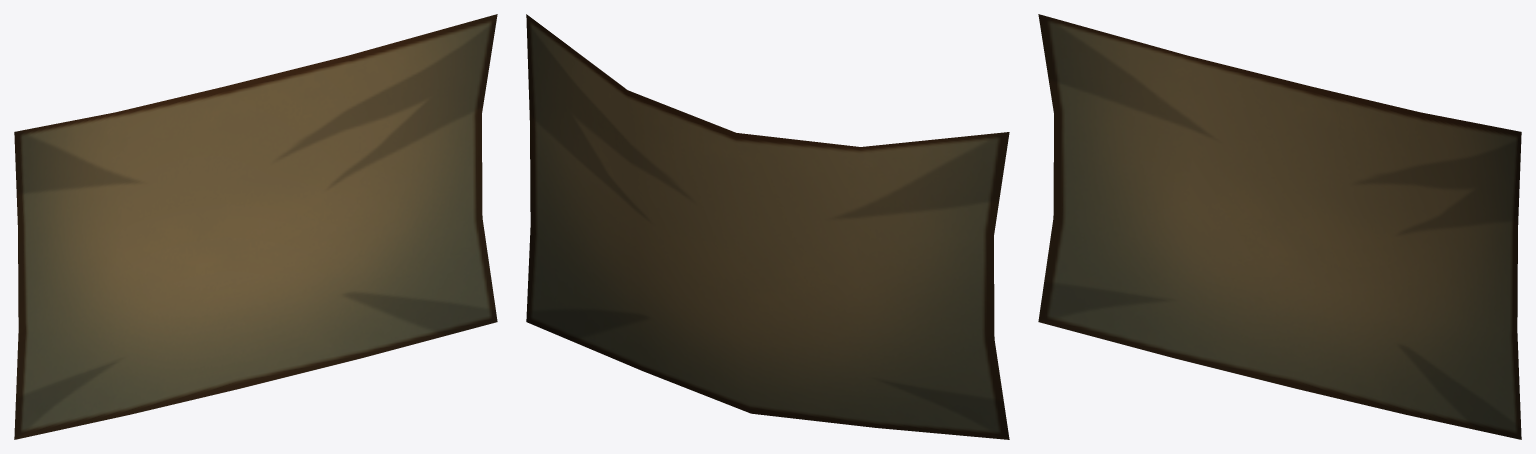
File: arena_3.FBX
The picture shows the model from 3 angles, left to right: view 1: azimuth 30°, elevation 25°; view 2: azimuth 150°, elevation 25°; view 3: azimuth 330°, elevation 25°; orthographic projection.
Parts seen in each view (by area): view 1: Plane001; view 2: Plane001; view 3: Plane001.
Boxes of the visible parts, bbox=[...] form: Plane001: bbox=[14, 14, 497, 439]; Plane001: bbox=[526, 14, 1009, 439]; Plane001: bbox=[1038, 14, 1521, 439].
Size of the model in its own units: 280 by 182 by 31.72.
